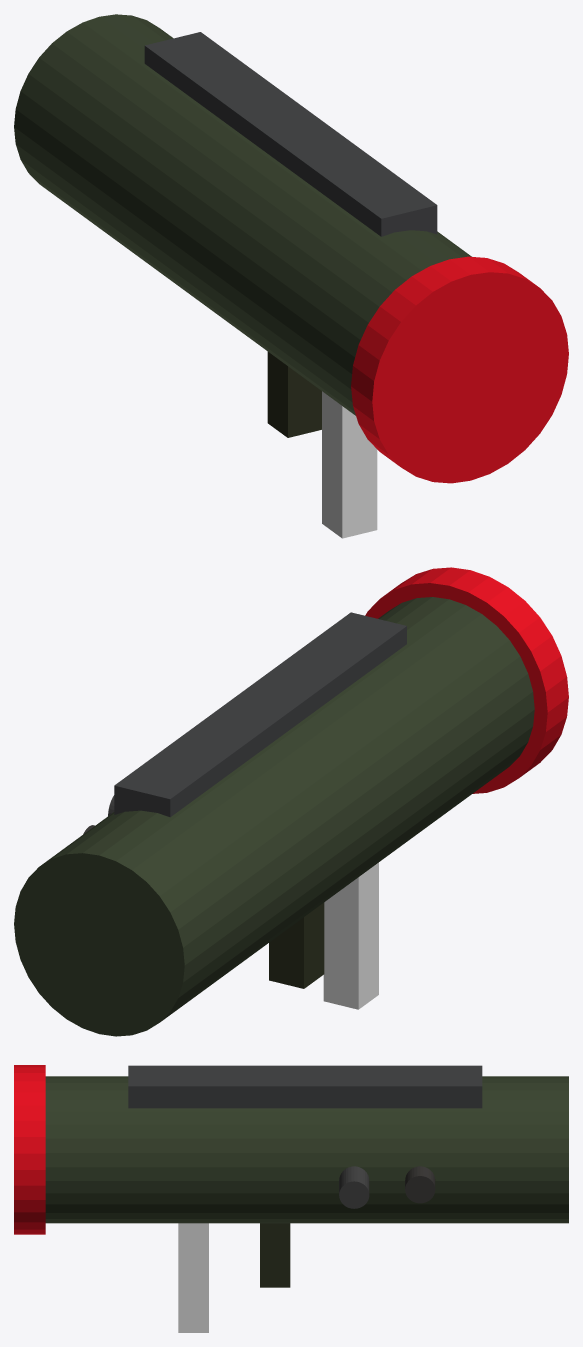
The model's file is bazooka.fbx.
3 renders of one model, top to bottom at view 1: azimuth 30°, elevation 25°; view 2: azimuth 150°, elevation 25°; view 3: azimuth 270°, elevation 25°, orthographic. The views are drawn at different scales.
Parts seen in each view (by area): view 1: Cylinder, Cylinder.001, Cube.004, Cube, Cube.001; view 2: Cylinder, Cube.004, Cylinder.001, Cube, Cube.001; view 3: Cylinder, Cube.004, Cylinder.001, Cube, Cube.001, Cylinder.002, Cylinder.003.
Boxes of the visible parts, x1=… form: Cylinder: x1=14, y1=14, x2=471, y2=415; Cylinder.001: x1=351, y1=256, x2=568, y2=483; Cube.004: x1=144, y1=32, x2=437, y2=236; Cube: x1=322, y1=391, x2=377, y2=538; Cube.001: x1=267, y1=351, x2=321, y2=437; Cylinder: x1=14, y1=597, x2=534, y2=1036; Cube.004: x1=114, y1=612, x2=406, y2=817; Cylinder.001: x1=365, y1=567, x2=568, y2=793; Cube: x1=323, y1=862, x2=378, y2=1009; Cube.001: x1=269, y1=902, x2=324, y2=988; Cylinder: x1=45, y1=1076, x2=568, y2=1223; Cube.004: x1=128, y1=1065, x2=482, y2=1108; Cylinder.001: x1=14, y1=1065, x2=45, y2=1234; Cube: x1=178, y1=1223, x2=208, y2=1332; Cube.001: x1=260, y1=1223, x2=290, y2=1287; Cylinder.002: x1=339, y1=1166, x2=369, y2=1208; Cylinder.003: x1=405, y1=1166, x2=435, y2=1203.
Bounding box in the file's own units: 170 × 249 × 489.
